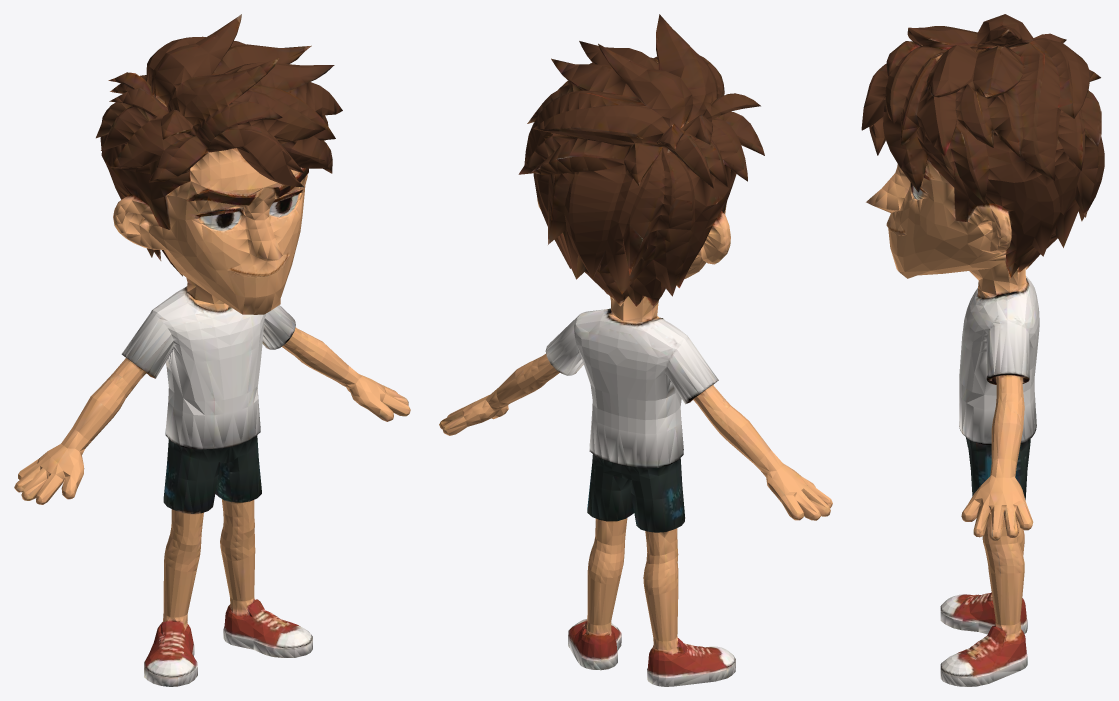
Rendered from modello.glb.
3 views of the same model, side by side, from view 1: azimuth 30°, elevation 25°; view 2: azimuth 150°, elevation 25°; view 3: azimuth 270°, elevation 25° (orthographic). The views are drawn at different scales.
Parts seen in each view (by area): view 1: material; view 2: material; view 3: material.
Part boxes in pixels (x1,y1,x2,y2): material: [14, 14, 410, 686]; material: [439, 14, 832, 686]; material: [861, 14, 1104, 686].
Size of the model in its own units: 1.1 by 1.7 by 0.5905.
1 material, 1 textured.
